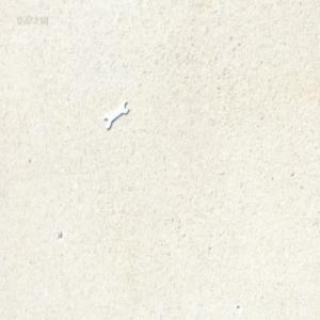Wrenchtrack_idkeyframe: (103, 100, 127, 130)
